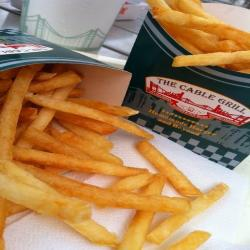fries: (1, 59, 143, 239), (145, 1, 250, 92)
